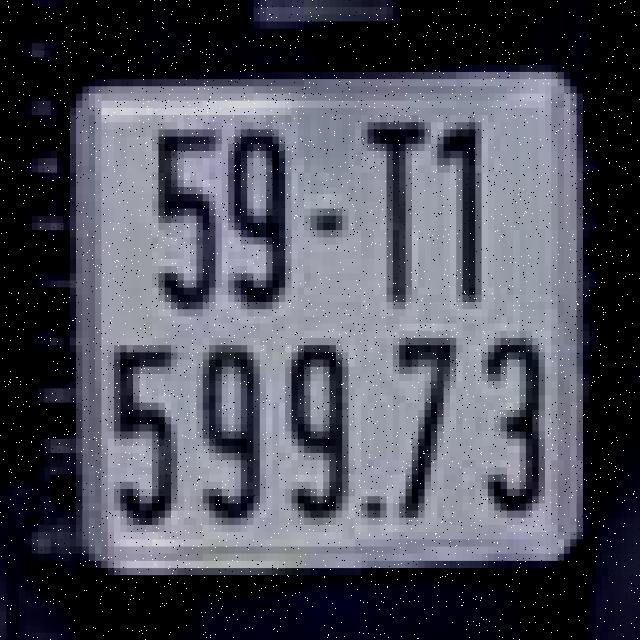1: (428, 104, 491, 313)
3: (476, 316, 552, 525)
5: (95, 334, 184, 543), (140, 126, 228, 320)
7: (387, 327, 462, 529)
9: (187, 327, 269, 529), (276, 324, 352, 525), (222, 122, 298, 316)
T: (348, 104, 431, 313)
